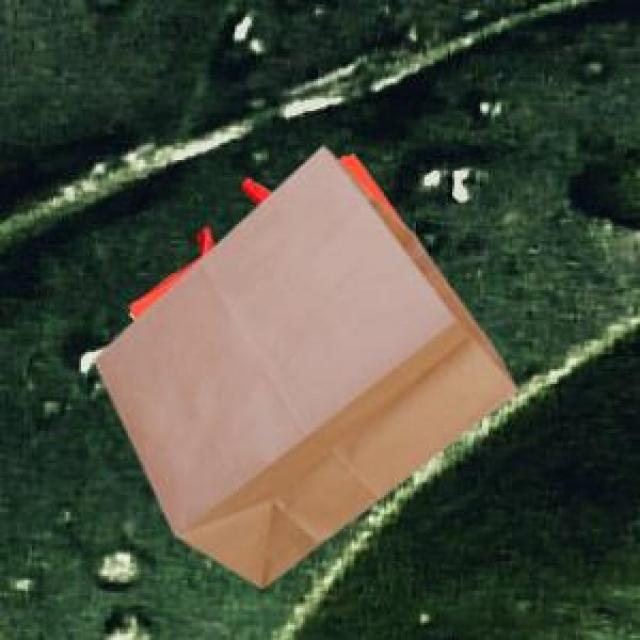Paper -Biodegradable-: (94, 147, 512, 597)
